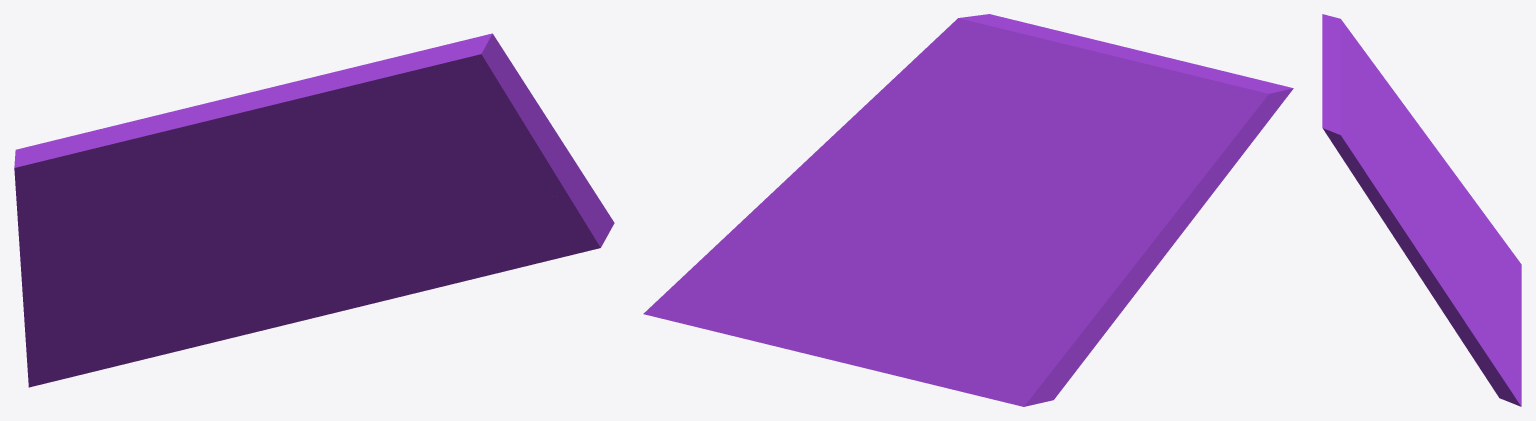
Rendered from Window_112_chunks.fbx.
The picture shows the model from 3 angles, left to right: view 1: azimuth 30°, elevation 25°; view 2: azimuth 150°, elevation 25°; view 3: azimuth 270°, elevation 25°; orthographic projection. The views are drawn at different scales.
Visible parts, largest first — view 1: Window_112_2, Window_112_1, Window_112_3, Window_112_0; view 2: Window_112_1, Window_112_3, Window_112_2, Window_112_0; view 3: Window_112_1, Window_112_3, Window_112_2, Window_112_0.
Boxes of the visible parts, left/top/right/bottom form: Window_112_2: left=14, top=74, right=356, bottom=298; Window_112_1: left=27, top=170, right=614, bottom=387; Window_112_3: left=301, top=33, right=580, bottom=214; Window_112_0: left=23, top=257, right=210, bottom=363; Window_112_1: left=643, top=206, right=1078, bottom=406; Window_112_3: left=732, top=14, right=1070, bottom=230; Window_112_2: left=1007, top=34, right=1293, bottom=273; Window_112_0: left=977, top=172, right=1181, bottom=368; Window_112_1: left=1430, top=204, right=1521, bottom=406; Window_112_3: left=1322, top=94, right=1470, bottom=330; Window_112_2: left=1322, top=14, right=1409, bottom=174; Window_112_0: left=1405, top=106, right=1498, bottom=233.
Size of the model in its own units: 1753 by 829 by 756.
